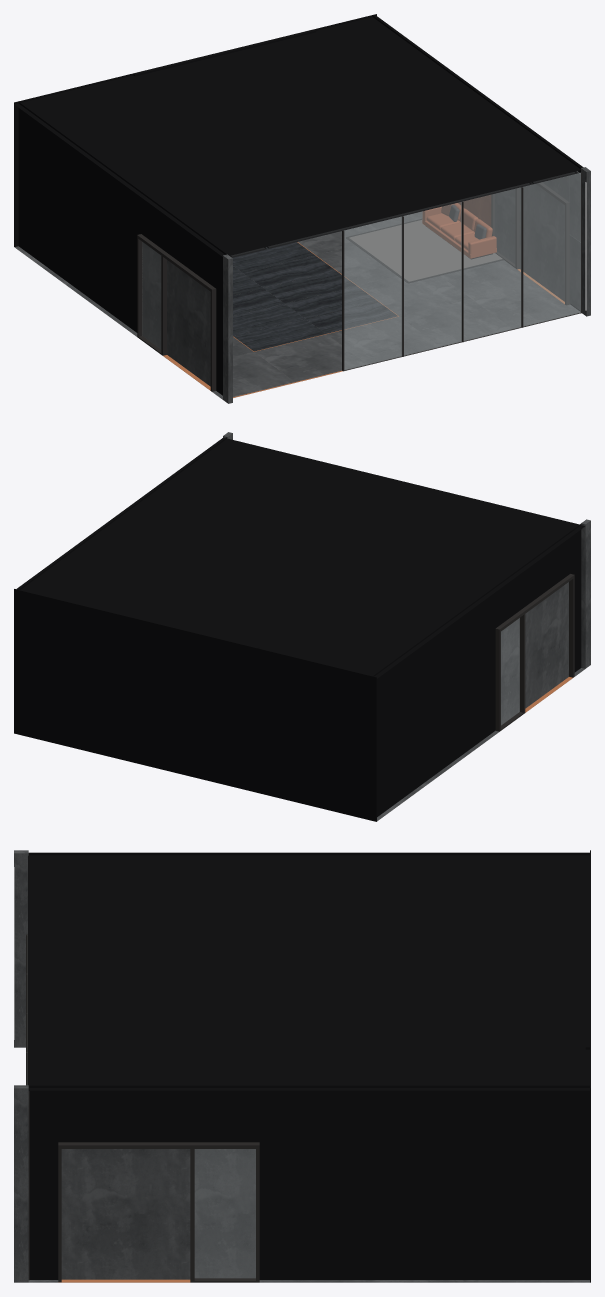
Rendered from room_dynamic.glb.
3 views of the same model, one above another, from view 1: azimuth 30°, elevation 25°; view 2: azimuth 150°, elevation 25°; view 3: azimuth 270°, elevation 25° (orthographic). The views are drawn at different scales.
Visible parts, largest first — view 1: MTG_Reveals, MTG_Glass_Vitrine, MTG_Floor, MTG_PortalFill_L, MTG_PortalFill_R, MTG_Rug, MTG_Walls, MTG_Sofa, MTG_Glass_PortalL, MTG_Pier_-1, MTG_Pier_1, MTG_Ceiling (+4 smaller); view 2: MTG_Reveals, MTG_PortalFill_L, MTG_Glass_PortalL, MTG_Pier_-1, MTG_PortalL_Mull, MTG_Floor, MTG_PortalL_JambA, MTG_PortalL_Head, MTG_PortalL_JambB; view 3: MTG_Reveals, MTG_PortalFill_R, MTG_Glass_PortalR, MTG_Pier_1, MTG_Pier_-1, MTG_PortalR_Head, MTG_Floor, MTG_PortalR_Mull.
Part boxes in pixels (x1,y1,x2,y2): MTG_Reveals: (14, 14, 583, 395); MTG_Glass_Vitrine: (344, 173, 580, 369); MTG_Floor: (14, 211, 579, 399); MTG_PortalFill_L: (142, 242, 210, 386); MTG_PortalFill_R: (495, 182, 564, 301); MTG_Rug: (349, 220, 502, 281); MTG_Walls: (458, 171, 580, 310); MTG_Sofa: (422, 203, 496, 259); MTG_Glass_PortalL: (142, 242, 160, 348); MTG_Pier_-1: (223, 254, 232, 403); MTG_Pier_1: (581, 167, 590, 316); MTG_Ceiling: (230, 171, 576, 257); MTG_Reveals: (14, 437, 584, 821); MTG_PortalFill_L: (501, 582, 568, 725); MTG_Glass_PortalL: (501, 618, 519, 724); MTG_Pier_-1: (581, 519, 590, 668); MTG_PortalL_Mull: (519, 614, 525, 713); MTG_Floor: (377, 668, 584, 821); MTG_PortalL_JambA: (495, 631, 500, 731); MTG_PortalL_Head: (495, 574, 574, 632); MTG_PortalL_JambB: (569, 578, 574, 677); MTG_Reveals: (28, 850, 590, 1282); MTG_PortalFill_R: (61, 1149, 255, 1279); MTG_Glass_PortalR: (195, 1149, 255, 1277); MTG_Pier_1: (14, 1085, 28, 1282); MTG_Pier_-1: (14, 850, 28, 1047); MTG_PortalR_Head: (58, 1142, 259, 1148); MTG_Floor: (28, 1280, 589, 1282); MTG_PortalR_Mull: (190, 1149, 194, 1282).
Bounding box in the file's own units: 13 × 4.95 × 13.32.
23 materials, 6 textured.
